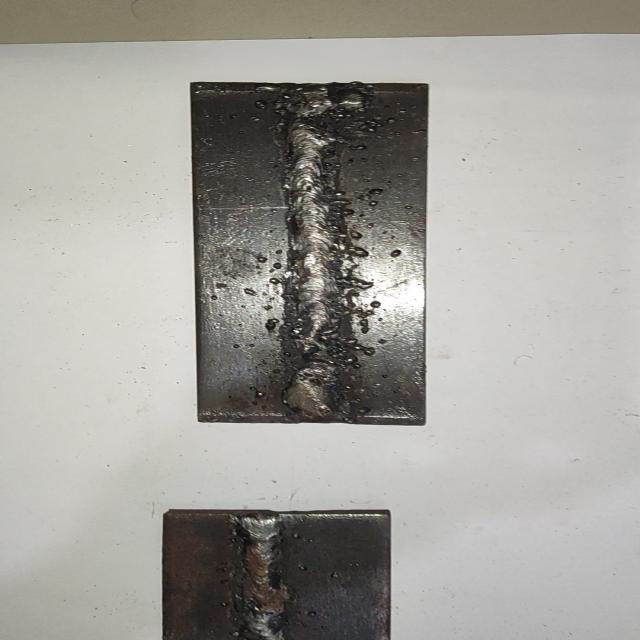Defect: (264, 312, 367, 386), (264, 86, 376, 144)
Welding Line: (276, 90, 348, 417), (236, 515, 288, 640)
Workpiece: (188, 80, 432, 427), (160, 506, 397, 640)
